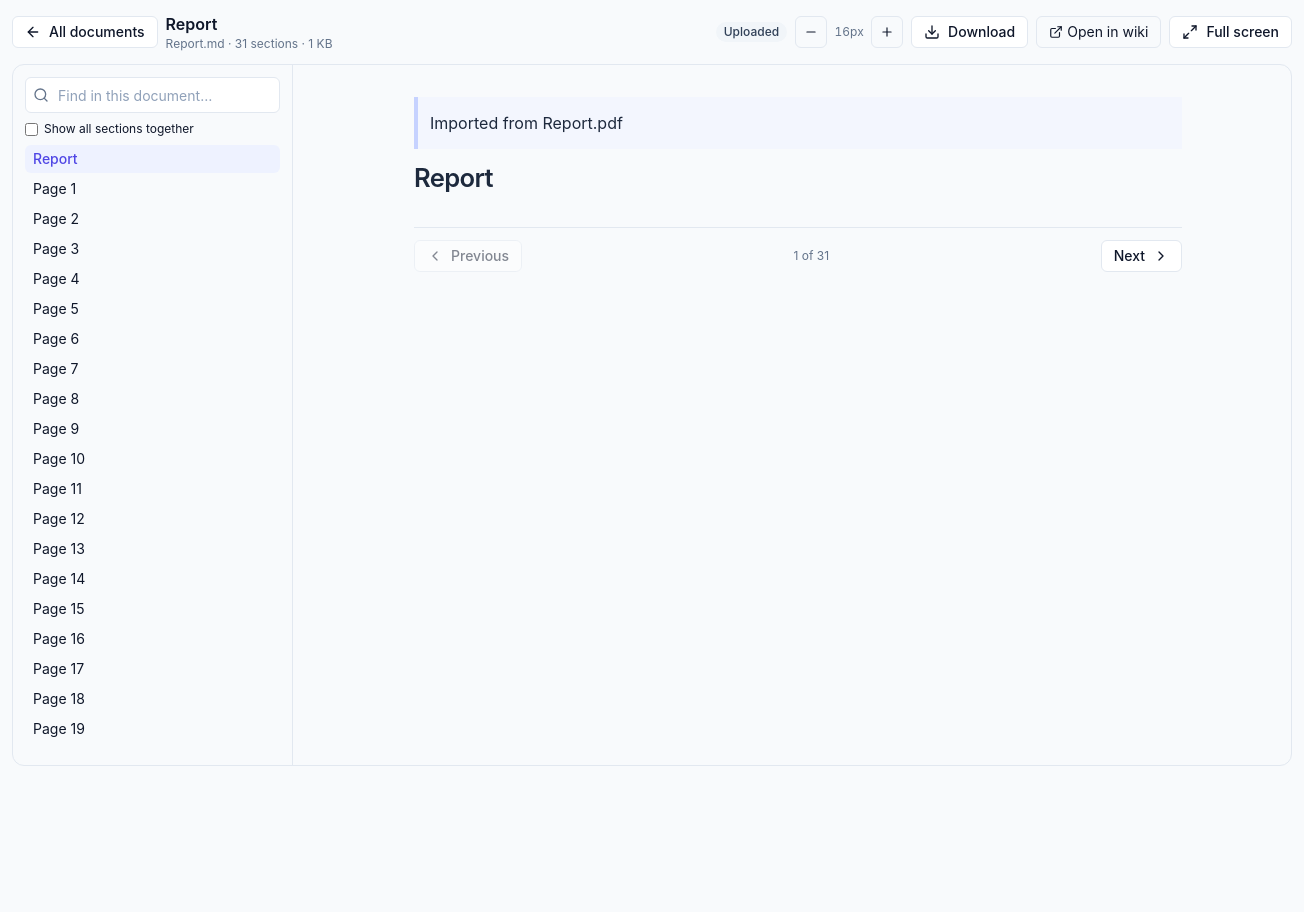
Test: document reader › finds words across the whole document, lists where, and jumps to the match
In the field named "Find in document": (152, 95) [25,77,280,113], type "backoff"
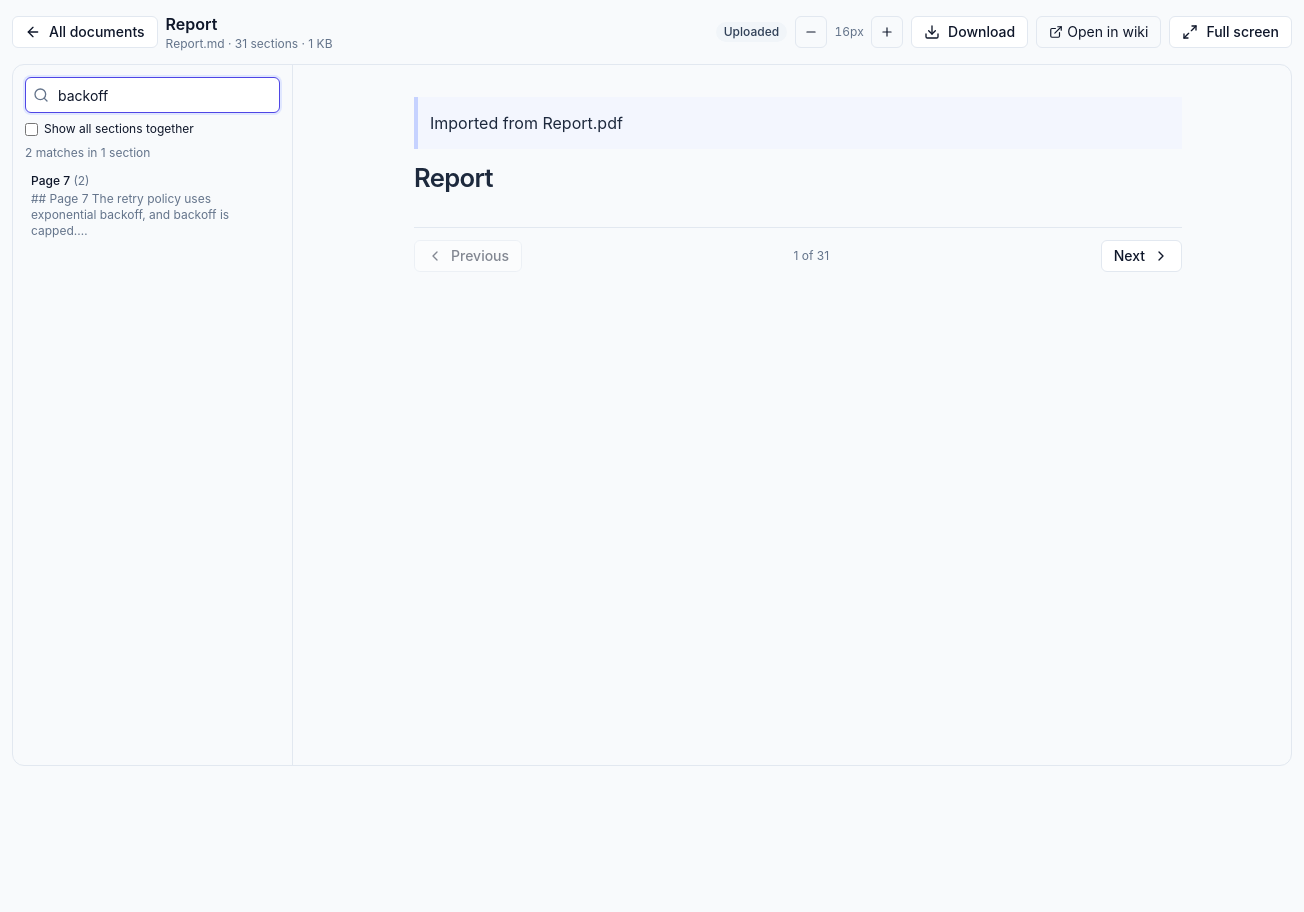
Expected: the navigation bar named "Search results" shows "2 matches in 1 section", [25,145,280,245]
Click the button "Page 7": (152, 206) [25,167,280,245]
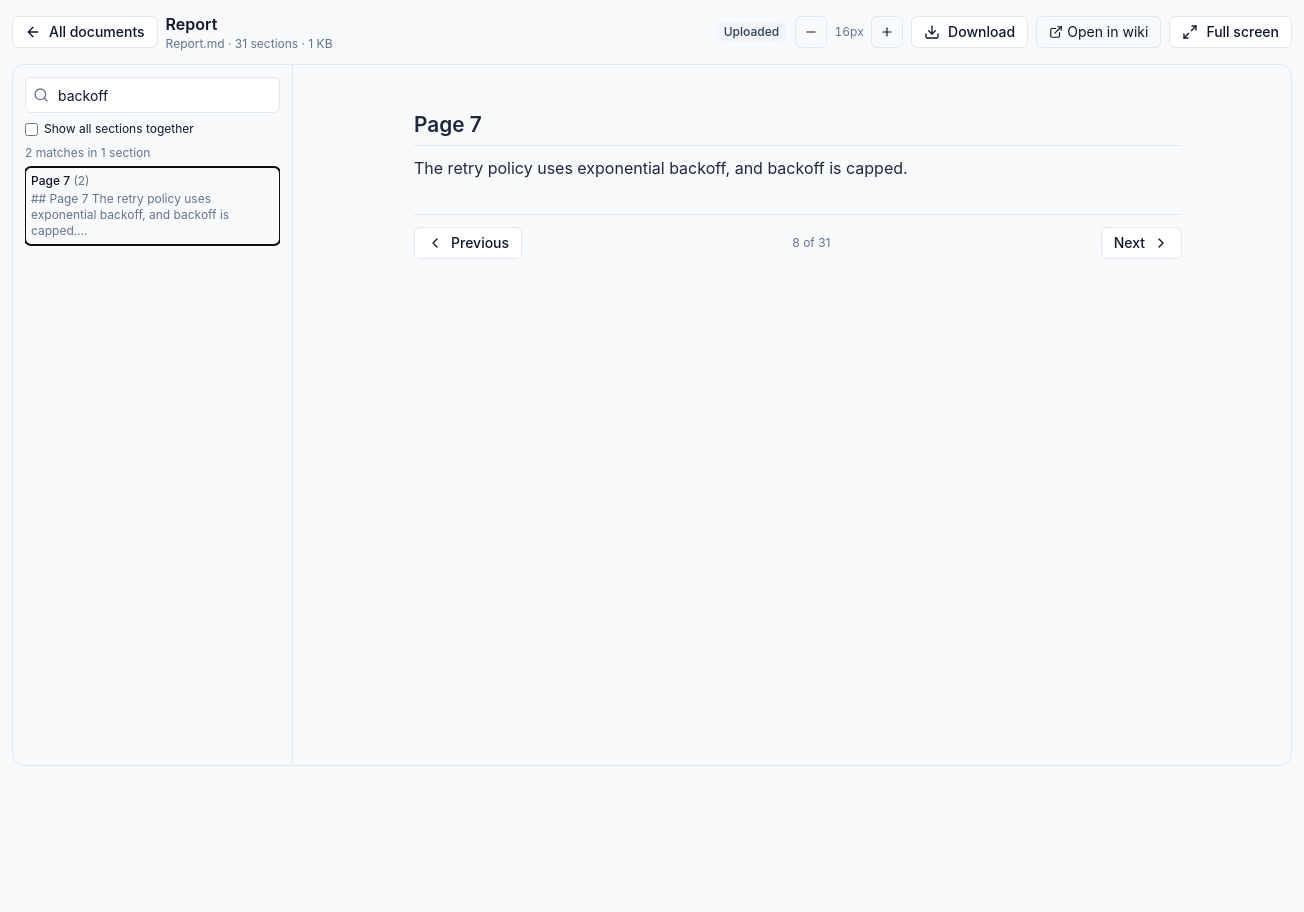
Expected: the element named "Document text" shows "exponential backoff", [414,158,908,178]
Replace the text in the field named "Find in document" with "zzz-nothing": (152, 95) [25,77,280,113]
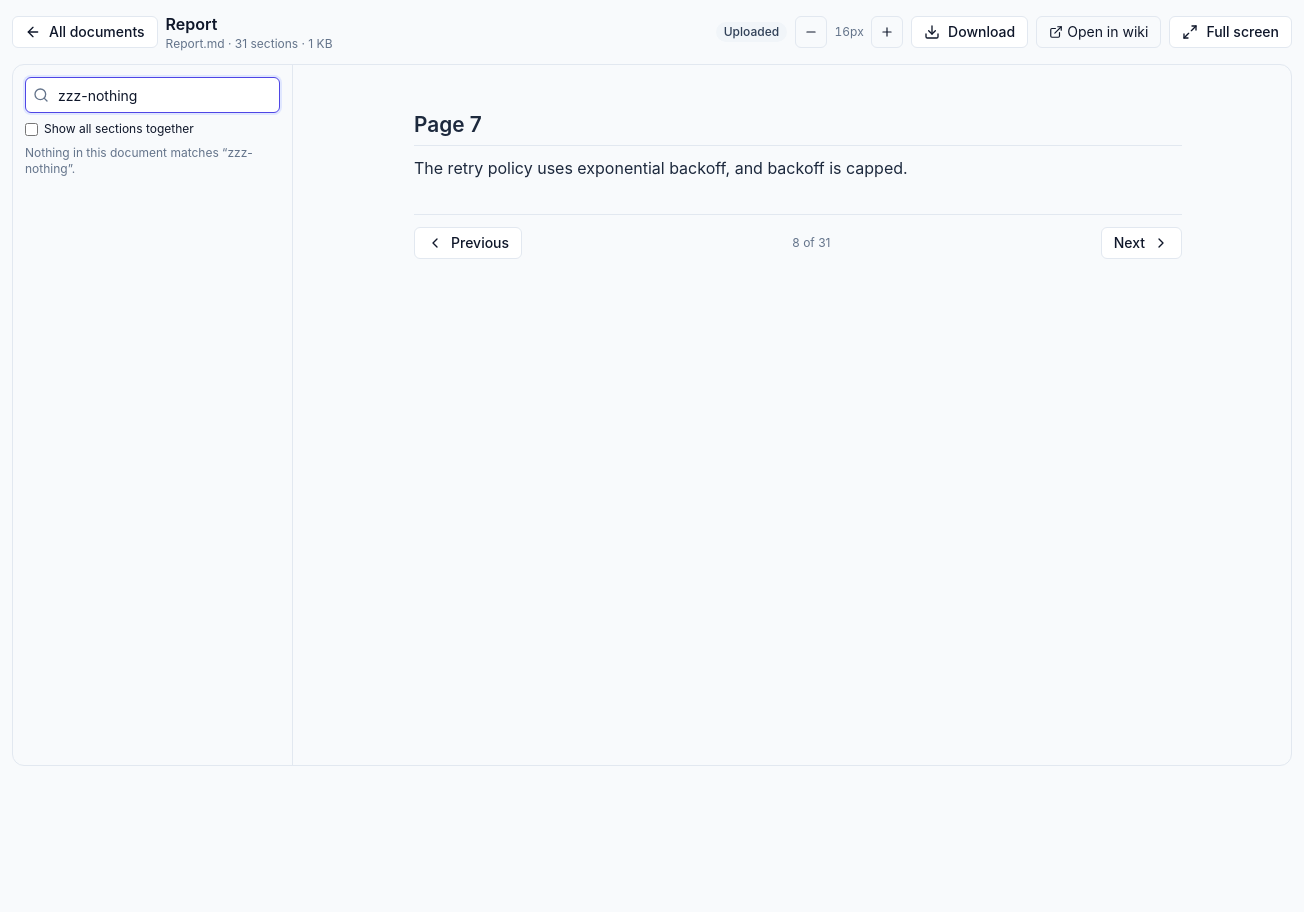
Expected: the navigation bar named "Search results" shows "Nothing in this document matches", [25,145,227,160]
